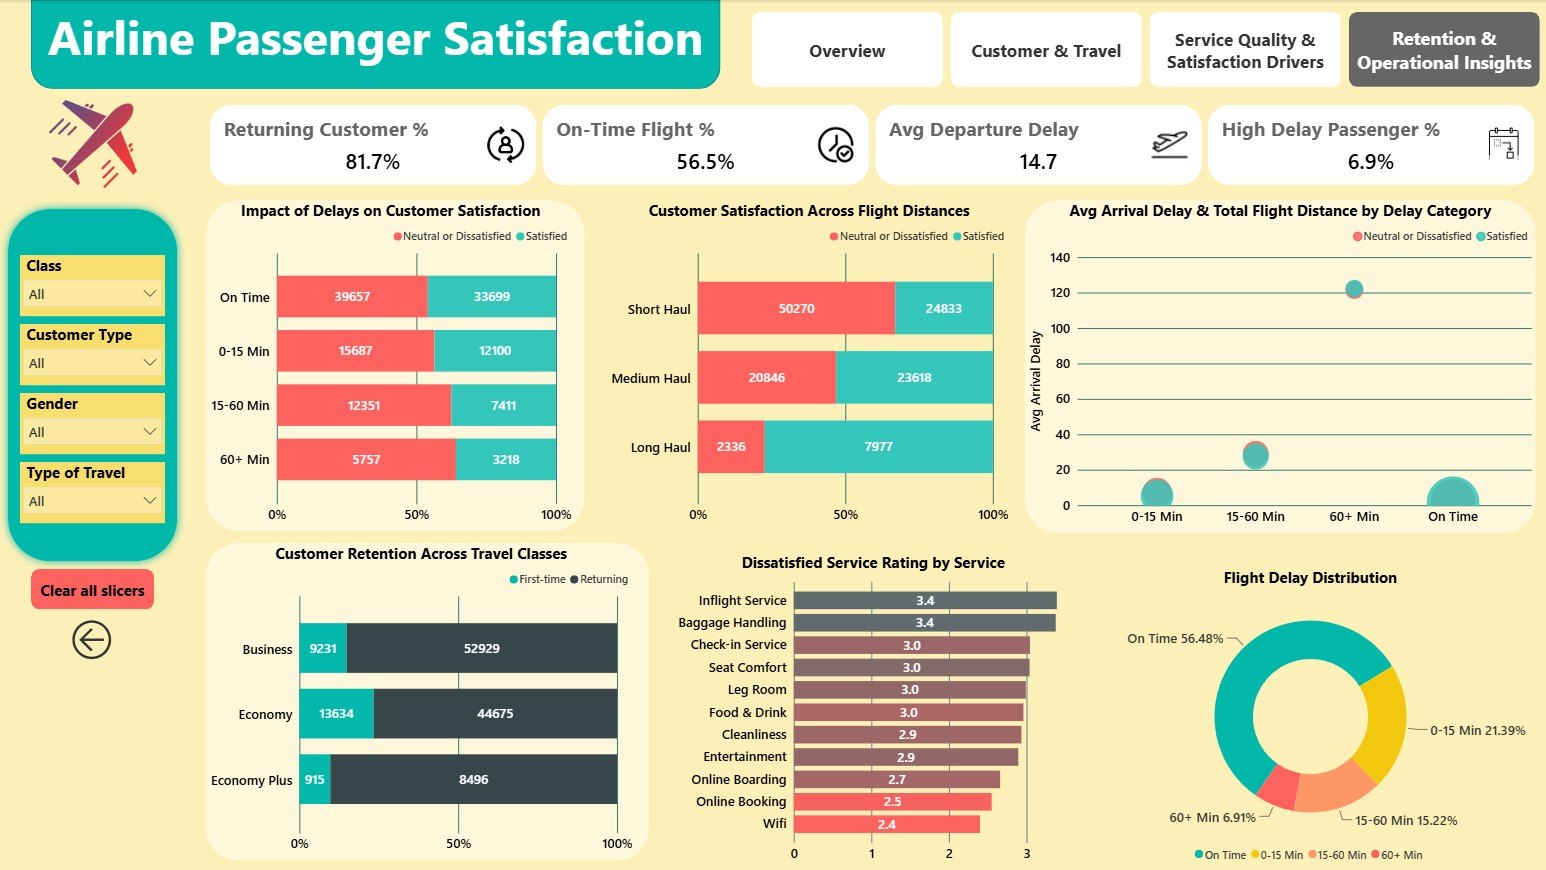

This screenshot's page, from the dashboard's own definition file:
{"tool":"powerbi","page":{"name":"Retention & Operational Insights","canvas":[1920,1080],"ordinal":3},"visuals":[{"type":"group","id":"g1","title":"Group 1","box":[38.2,0,854.8,110.6],"z":0},{"type":"shape","box":[38.2,0,855.8,110.5],"z":0,"group":"g1"},{"type":"shape","box":[255.7,248.6,470,411.4],"z":0,"group":"g3"},{"type":"shape","box":[1272.4,248.6,634.3,414.3],"z":0,"group":"g4"},{"type":"shape","box":[0,248.9,230,457.1],"z":0,"group":"g5"},{"type":"shape","box":[255.7,673.9,550,394.3],"z":0,"group":"g6"},{"type":"textbox","box":[38.2,0.3,855.8,109.1],"z":1000,"group":"g1"},{"type":"pageNavigator","box":[933.8,14.5,978.6,93.5],"z":1000},{"type":"group","id":"g2","title":"Group 3","box":[0,248.9,230.5,575.6],"z":2000},{"type":"cardVisual","fields":{"Data":[" Measures.Returning Customer %"," Measures.On-Time Flight %"," Measures.Avg Departure Delay"," Measures.High Delay Passenger %"]},"box":[255.9,125.9,1657.1,109.1],"z":3000},{"type":"hundredPercentStackedBarChart","title":"Customer Satisfaction Across Flight Distances","fields":{"Category":["airline_passenger_satisfaction.Flight Distance Category"],"Series":["airline_passenger_satisfaction.Satisfaction"],"Y":[" Measures.Total Passengers"]},"box":[752.9,248.6,504.3,411.4],"z":4000},{"type":"hundredPercentStackedBarChart","title":"Impact of Delays on Customer Satisfaction","fields":{"Category":["airline_passenger_satisfaction.Delay Category"],"Y":[" Measures.Total Passengers"],"Series":["airline_passenger_satisfaction.Satisfaction"]},"box":[255.7,248.6,458.6,411.4],"z":5000,"group":"g3"},{"type":"barChart","fields":{"Y":["Operational Metrics.Dissatisfied Service Rating"],"Category":["Service Metrics.Service"]},"box":[835.7,685.7,497.1,394.3],"z":5000},{"type":"scatterChart","title":"Avg Arrival Delay & Total Flight Distance by Delay Category","fields":{"Series":["airline_passenger_satisfaction.Satisfaction"],"Size":["Sum(airline_passenger_satisfaction.Flight Distance)"],"X":["airline_passenger_satisfaction.Delay Category"],"Y":[" Measures.Avg Arrival Delay"]},"box":[1272.4,248.6,634.3,414.3],"z":6000,"group":"g4"},{"type":"hundredPercentStackedBarChart","title":"Customer Retention Across Travel Classes","fields":{"Category":["airline_passenger_satisfaction.Class"],"Series":["airline_passenger_satisfaction.Customer Type"],"Y":[" Measures.Total Passengers"]},"box":[255.7,673.9,534.3,394.3],"z":6000,"group":"g6"},{"type":"donutChart","title":"Flight Delay Distribution","fields":{"Category":["airline_passenger_satisfaction.Delay Category"],"Y":[" Measures.Total Passengers"]},"box":[1332.9,704.3,587.1,375.7],"z":6000},{"type":"group","id":"g3","title":"Group 4","box":[255.7,248.6,470,411.4],"z":7000},{"type":"slicer","fields":{"Values":["airline_passenger_satisfaction.Class"]},"box":[24.8,315.7,180.4,75.5],"z":7000,"group":"g5"},{"type":"actionButton","box":[38.6,706,152.9,50],"z":7000,"group":"g2"},{"type":"group","id":"g4","title":"Group 5","box":[1272.4,248.6,634.3,414.3],"z":8000},{"type":"group","id":"g5","title":"Group 2","box":[0,248.9,230,457.1],"z":9000,"group":"g2"},{"type":"slicer","fields":{"Values":["airline_passenger_satisfaction.Customer Type"]},"box":[24.8,401.5,180.4,75.5],"z":9000,"group":"g5"},{"type":"group","id":"g6","title":"Group 6","box":[255.7,673.9,550,394.3],"z":9000},{"type":"image","box":[52.9,117.1,124.3,124.3],"z":10000},{"type":"slicer","fields":{"Values":["airline_passenger_satisfaction.Gender"]},"box":[24.8,487.2,180.4,75.5],"z":10000,"group":"g5"},{"type":"actionButton","box":[82.9,763.2,64.3,61.4],"z":10000,"group":"g2"},{"type":"image","box":[598.6,150,58.6,58.6],"z":11000},{"type":"slicer","fields":{"Values":["airline_passenger_satisfaction.Type of Travel"]},"box":[24.8,573,180.4,75.5],"z":11000,"group":"g5"},{"type":"image","box":[1422.9,150,58.6,58.6],"z":12000},{"type":"image","box":[1008.6,150,58.6,58.6],"z":13000},{"type":"image","box":[1837.1,150,58.6,58.6],"z":14000}]}

Visuals, with their boxes in screenshot pixels (x1, y1, x2, y2), scaled from the page's 1920x1080 canvas onto the 1546x870 screenshot:
"Group 1" group: BBox(31, 0, 719, 89)
shape: BBox(31, 0, 720, 89)
shape: BBox(206, 200, 584, 532)
shape: BBox(1025, 200, 1535, 534)
shape: BBox(0, 201, 185, 569)
shape: BBox(206, 543, 649, 860)
textbox: BBox(31, 0, 720, 88)
pageNavigator: BBox(752, 12, 1540, 87)
"Group 3" group: BBox(0, 201, 186, 664)
cardVisual -  Measures.Returning Customer % x  Measures.On-Time Flight %: BBox(206, 101, 1540, 189)
"Customer Satisfaction Across Flight Distances" hundredPercentStackedBarChart: BBox(606, 200, 1012, 532)
"Impact of Delays on Customer Satisfaction" hundredPercentStackedBarChart: BBox(206, 200, 575, 532)
barChart - Operational Metrics.Dissatisfied Service Rating x Service Metrics.Service: BBox(673, 552, 1073, 869)
"Avg Arrival Delay & Total Flight Distance by Delay Category" scatterChart: BBox(1025, 200, 1535, 534)
"Customer Retention Across Travel Classes" hundredPercentStackedBarChart: BBox(206, 543, 636, 860)
"Flight Delay Distribution" donutChart: BBox(1073, 567, 1545, 869)
"Group 4" group: BBox(206, 200, 584, 532)
slicer - airline_passenger_satisfaction.Class: BBox(20, 254, 165, 315)
actionButton: BBox(31, 569, 154, 609)
"Group 5" group: BBox(1025, 200, 1535, 534)
"Group 2" group: BBox(0, 201, 185, 569)
slicer - airline_passenger_satisfaction.Customer Type: BBox(20, 323, 165, 384)
"Group 6" group: BBox(206, 543, 649, 860)
image: BBox(43, 94, 143, 194)
slicer - airline_passenger_satisfaction.Gender: BBox(20, 392, 165, 453)
actionButton: BBox(67, 615, 119, 664)
image: BBox(482, 121, 529, 168)
slicer - airline_passenger_satisfaction.Type of Travel: BBox(20, 462, 165, 522)
image: BBox(1146, 121, 1193, 168)
image: BBox(812, 121, 859, 168)
image: BBox(1479, 121, 1526, 168)
